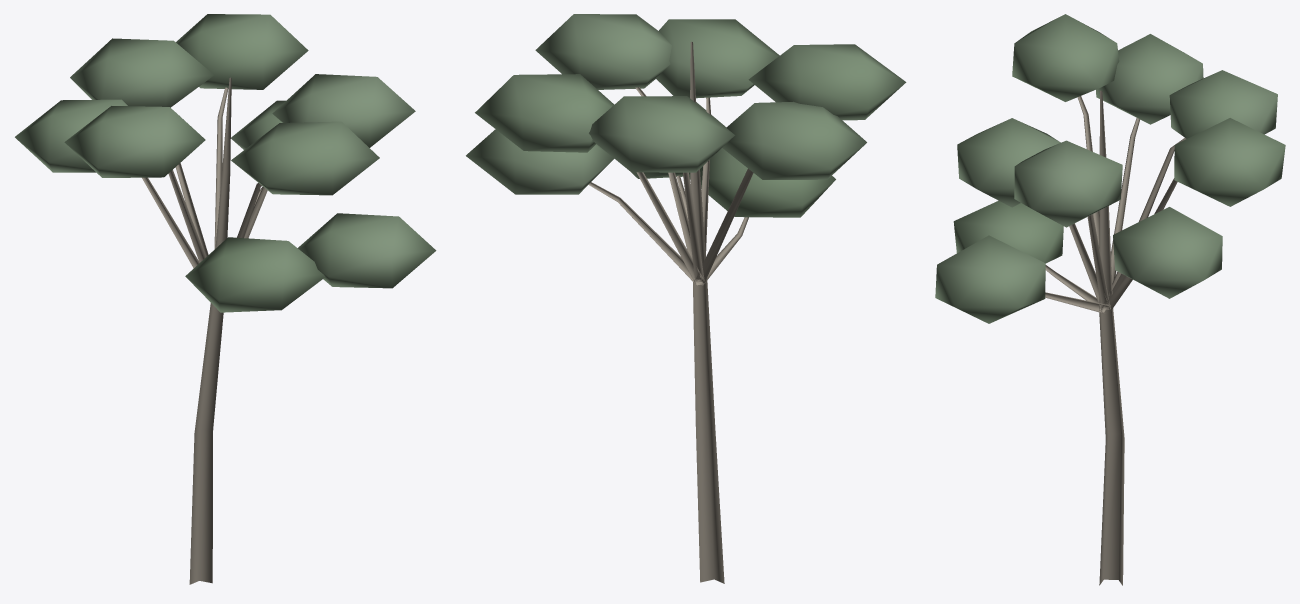
Rendered from aleppo_pine_1_far.glb.
3 renders of one model, left to right at view 1: azimuth 30°, elevation 25°; view 2: azimuth 150°, elevation 25°; view 3: azimuth 270°, elevation 25°, orthographic. The views are drawn at different scales.
Visible parts, largest first — view 1: geometry_0; view 2: geometry_0; view 3: geometry_0.
Boxes of the visible parts, <box> form: geometry_0: <box>15,14,436,584</box>; geometry_0: <box>466,14,906,583</box>; geometry_0: <box>935,14,1285,585</box>.
Bounding box in the file's own units: 7.84 × 11.35 × 7.05.
